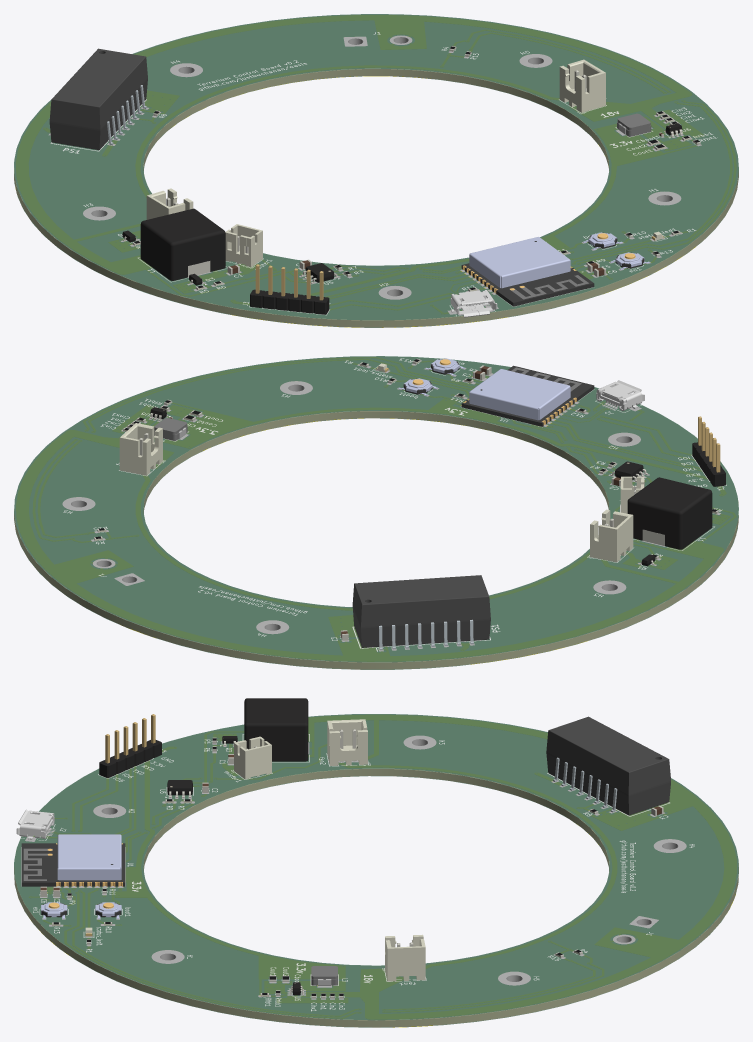
File: board.glb
3 renders of one model, top to bottom at view 1: azimuth 30°, elevation 25°; view 2: azimuth 150°, elevation 25°; view 3: azimuth 270°, elevation 25°, orthographic.
Parts seen in each view (by area): view 1: board_soldermask (×2), board_PCB, board_copper, Body, ESP32-C3-WROOM-02-H4, L_SXN_SMDRI127, board_pad, JST_B2B_XH_A (×2), board_silkscreen, PinHeader_1x06_P254mm_Vertical, JST_B2B_PH_K, J2 (+2 smaller); view 2: board_soldermask (×2), board_PCB, board_copper, Body, ESP32-C3-WROOM-02-H4, L_SXN_SMDRI127, JST_B2B_XH_A (×2), board_pad, board_silkscreen, PinHeader_1x06_P254mm_Vertical, J2, PinsArrayLR (+2 smaller); view 3: board_soldermask (×2), board_PCB, board_copper, Body, ESP32-C3-WROOM-02-H4, L_SXN_SMDRI127, JST_B2B_XH_A (×2), board_pad, board_silkscreen, PinHeader_1x06_P254mm_Vertical, JST_B2B_PH_K, J2 (+1 smaller).
Boxes of the visible parts, box(x1,y1,x2,y2) form: board_soldermask (×2): box(14, 14, 738, 327); board_PCB: box(14, 16, 738, 327); board_copper: box(15, 15, 735, 327); Body: box(49, 48, 147, 150); ESP32-C3-WROOM-02-H4: box(461, 237, 594, 306); L_SXN_SMDRI127: box(140, 208, 225, 280); board_pad: box(48, 35, 701, 314); JST_B2B_XH_A (×2): box(146, 59, 605, 219); board_silkscreen: box(50, 32, 717, 316); PinHeader_1x06_P254mm_Vertical: box(250, 264, 329, 314); JST_B2B_PH_K: box(225, 224, 262, 266); J2: box(450, 290, 497, 317); board_soldermask (×2): box(14, 356, 738, 669); board_PCB: box(14, 357, 738, 669); board_copper: box(16, 357, 735, 664); Body: box(352, 575, 490, 647); ESP32-C3-WROOM-02-H4: box(461, 365, 594, 426); L_SXN_SMDRI127: box(627, 477, 712, 549); JST_B2B_XH_A (×2): box(119, 423, 633, 562); board_pad: box(62, 360, 720, 651); board_silkscreen: box(63, 358, 726, 651); PinHeader_1x06_P254mm_Vertical: box(692, 416, 725, 486); J2: box(596, 380, 644, 410); PinsArrayLR: box(379, 619, 473, 650); board_soldermask (×2): box(14, 714, 738, 1027); board_PCB: box(14, 721, 738, 1027); board_copper: box(29, 715, 736, 1027); Body: box(546, 716, 670, 815); ESP32-C3-WROOM-02-H4: box(21, 834, 125, 886); L_SXN_SMDRI127: box(244, 698, 308, 761); JST_B2B_XH_A (×2): box(327, 719, 425, 981); board_pad: box(25, 735, 686, 999); board_silkscreen: box(20, 734, 694, 1011); PinHeader_1x06_P254mm_Vertical: box(99, 714, 161, 777); JST_B2B_PH_K: box(234, 736, 271, 779); J2: box(16, 809, 54, 839).
Bounding box in the file's own units: 0.14 × 0.0134 × 0.14.
